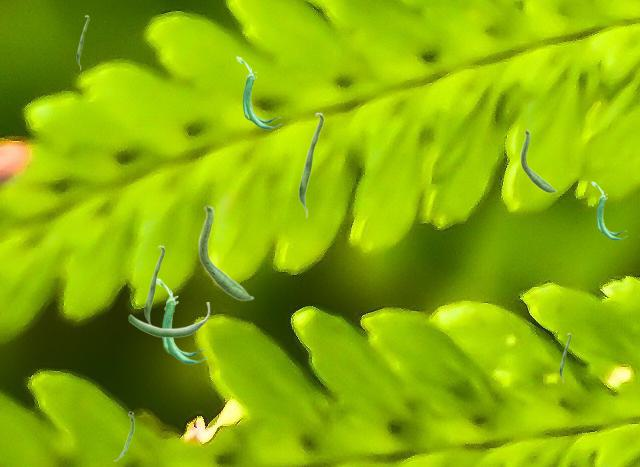french_bean: (198, 204, 253, 300), (157, 278, 206, 363), (236, 56, 280, 128), (128, 302, 209, 337), (298, 112, 323, 217), (520, 129, 556, 192), (591, 181, 626, 239), (144, 245, 164, 323), (113, 411, 133, 460), (76, 15, 88, 69), (559, 333, 570, 382)
